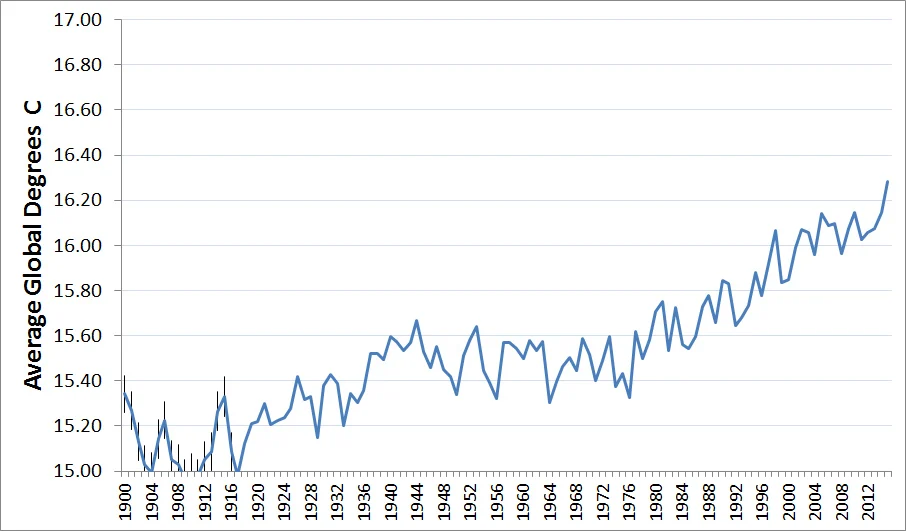S1_AxisNotZero: (8, 2, 894, 521)
